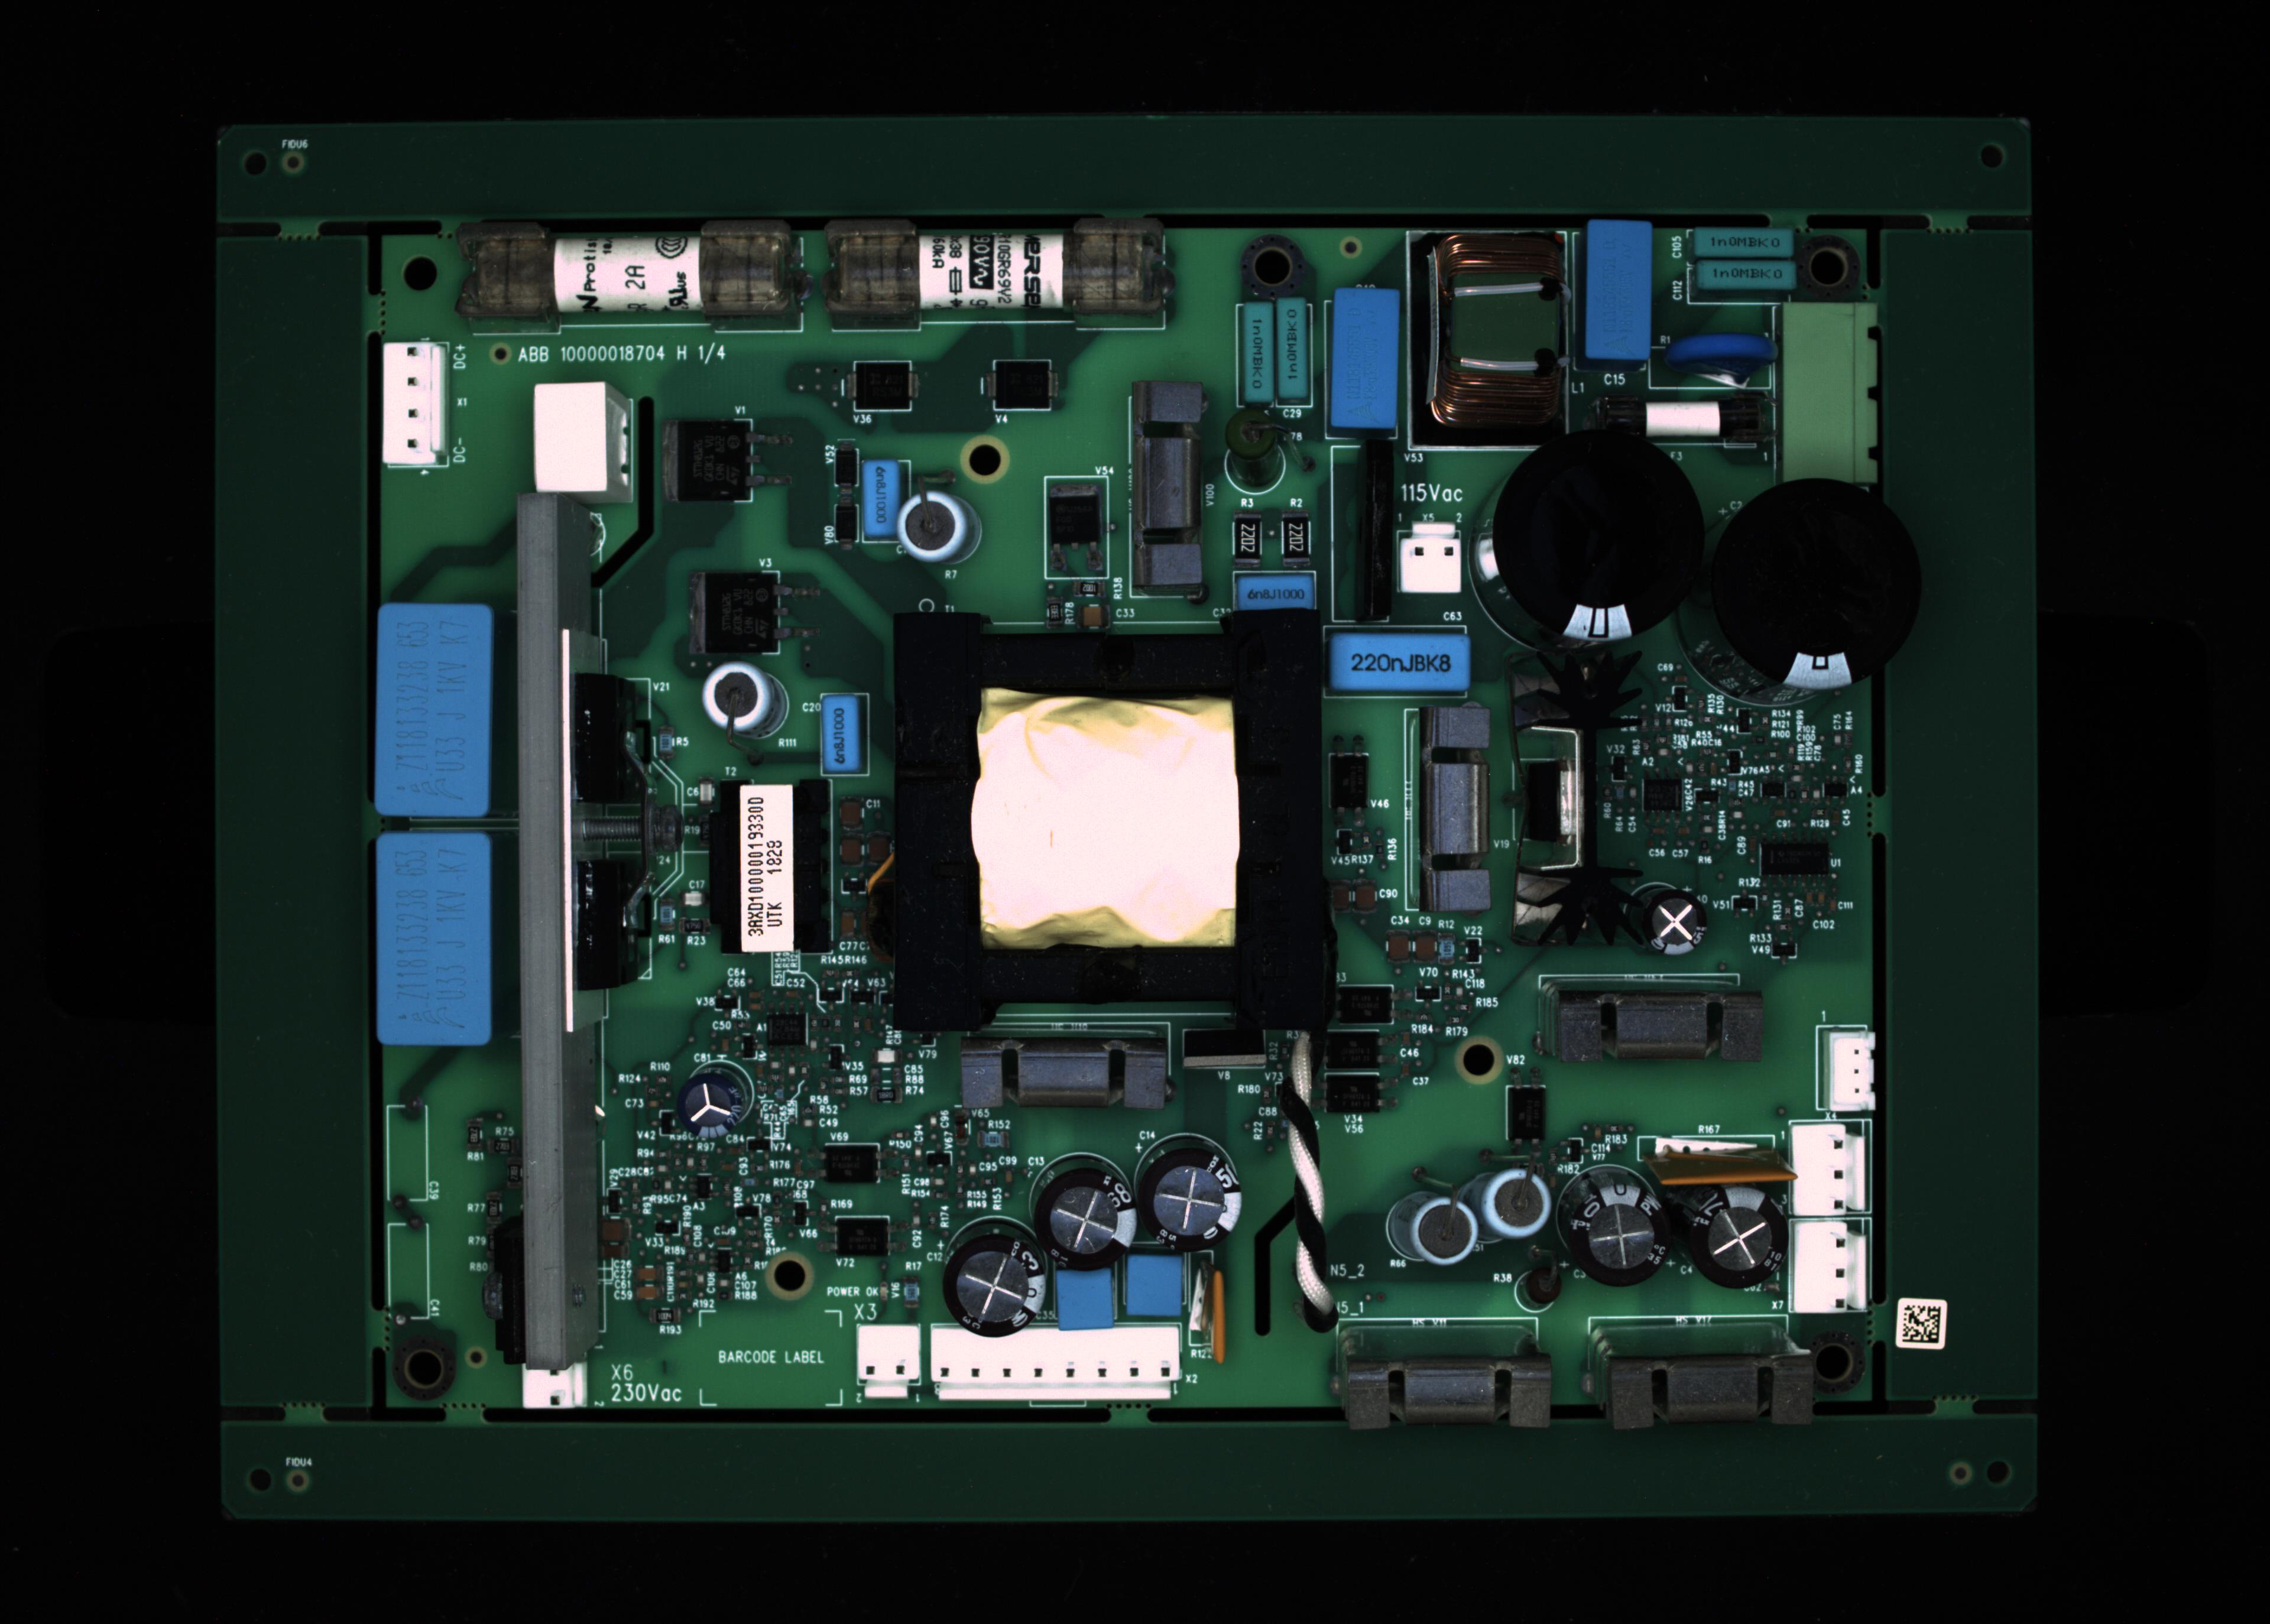10_p: (1648, 346, 1772, 394)
11_q: (1783, 302, 1878, 483)
12_r: (1591, 387, 1776, 455)
13_s: (383, 343, 447, 466)
14_t: (529, 380, 629, 503)
15_e: (855, 459, 907, 547)
16_k: (895, 483, 981, 564)
17_u: (1127, 385, 1206, 608)
18_v: (1234, 576, 1317, 608)
19_w: (1329, 633, 1475, 692)
1_a: (455, 216, 807, 336)
20_f: (1398, 520, 1461, 594)
21_g: (1493, 429, 1709, 642)
22_g: (1718, 473, 1922, 685)
23_h: (376, 603, 492, 819)
24_h: (376, 828, 491, 1039)
25_f: (522, 1360, 587, 1406)
26_f: (856, 1323, 921, 1397)
27_x: (934, 1330, 1182, 1404)
28_i: (1132, 1144, 1241, 1250)
29_i: (1027, 1164, 1136, 1269)
2_a: (819, 216, 1175, 330)
30_i: (942, 1229, 1050, 1339)
31_j: (1055, 1269, 1120, 1329)
32_j: (1125, 1253, 1187, 1316)
33_e: (821, 692, 862, 773)
34_k: (1386, 1186, 1481, 1267)
35_k: (1468, 1165, 1554, 1241)
36_i: (1565, 1178, 1670, 1287)
37_i: (1686, 1183, 1792, 1287)
38_l: (1331, 1318, 1560, 1424)
39_l: (1590, 1316, 1823, 1424)
3_b: (1241, 301, 1270, 402)
40_l: (1539, 977, 1771, 1069)
41_y: (1407, 678, 1505, 919)
42_z: (1829, 1032, 1874, 1111)
43_m: (1792, 1120, 1866, 1216)
44_m: (1792, 1222, 1867, 1309)
45_i: (679, 1065, 756, 1142)
46_n: (1338, 982, 1394, 1025)
47_n: (811, 1142, 899, 1192)
48_n: (818, 1214, 911, 1265)
49_aa: (761, 1011, 814, 1056)
4_b: (1278, 299, 1310, 399)
50_n: (1321, 1030, 1391, 1070)
51_n: (1322, 1069, 1384, 1113)
52_ab: (1329, 740, 1377, 831)
53_ac: (1656, 1130, 1790, 1165)
54_ad: (1194, 1253, 1222, 1364)
55_l: (957, 1021, 1175, 1118)
56_ae: (1176, 1025, 1282, 1132)
57_af: (1509, 647, 1635, 951)
58_i: (1642, 888, 1706, 956)
59_o: (993, 359, 1053, 411)
5_c: (1329, 286, 1400, 427)
60_o: (855, 359, 911, 410)
6_ag: (1405, 232, 1572, 452)
7_c: (1586, 218, 1649, 353)
8_d: (1686, 227, 1792, 260)
9_d: (1692, 262, 1793, 292)
